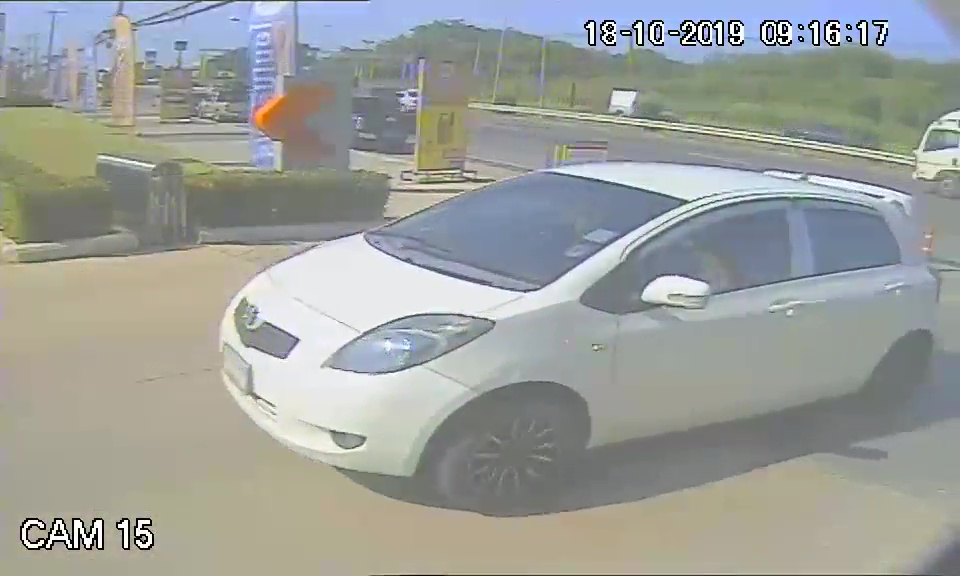sedan: (217, 160, 940, 498)
